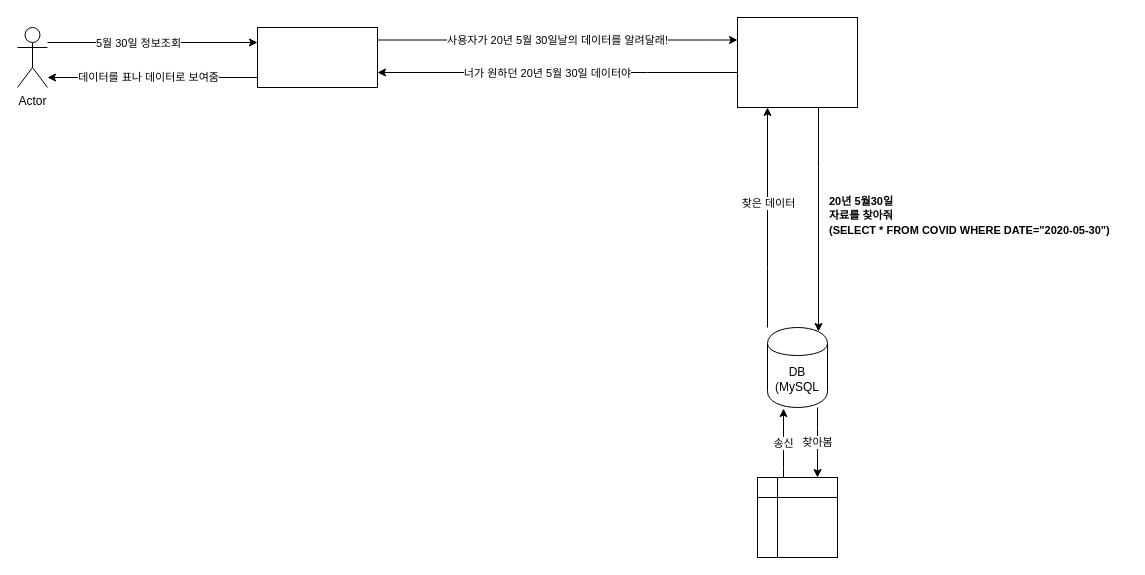
The diagram is 1145 pixels wide and 575 high, and some of its shapes have lost their labels. Here are the shapes that lost their labels. From the top down, the centre of each, then its label:
point 317,57: 웹 사이트 (HTML, CSS ,JAVASCRIPT)
point 797,62: 서버 (NodeJS)
